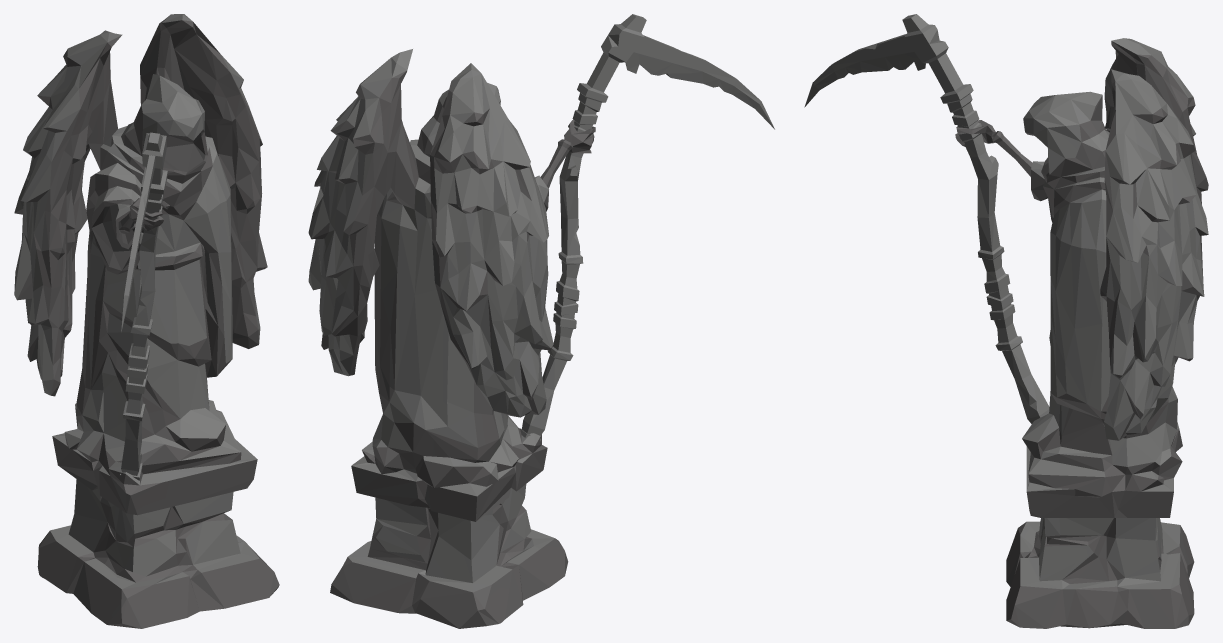
File: SM_Env_Statue_01.glb
3 renders of one model, left to right at view 1: azimuth 30°, elevation 25°; view 2: azimuth 150°, elevation 25°; view 3: azimuth 270°, elevation 25°, orthographic. The views are drawn at different scales.
Visible parts, largest first — view 1: SM_Env_Statue_01; view 2: SM_Env_Statue_01; view 3: SM_Env_Statue_01.
Part boxes in pixels (x1,y1,x2,y2): SM_Env_Statue_01: (14,14,279,628); SM_Env_Statue_01: (308,14,774,628); SM_Env_Statue_01: (804,14,1208,628).
Bounding box in the file's own units: 0.0265 × 0.0448 × 0.0306.
1 material, 1 textured.
